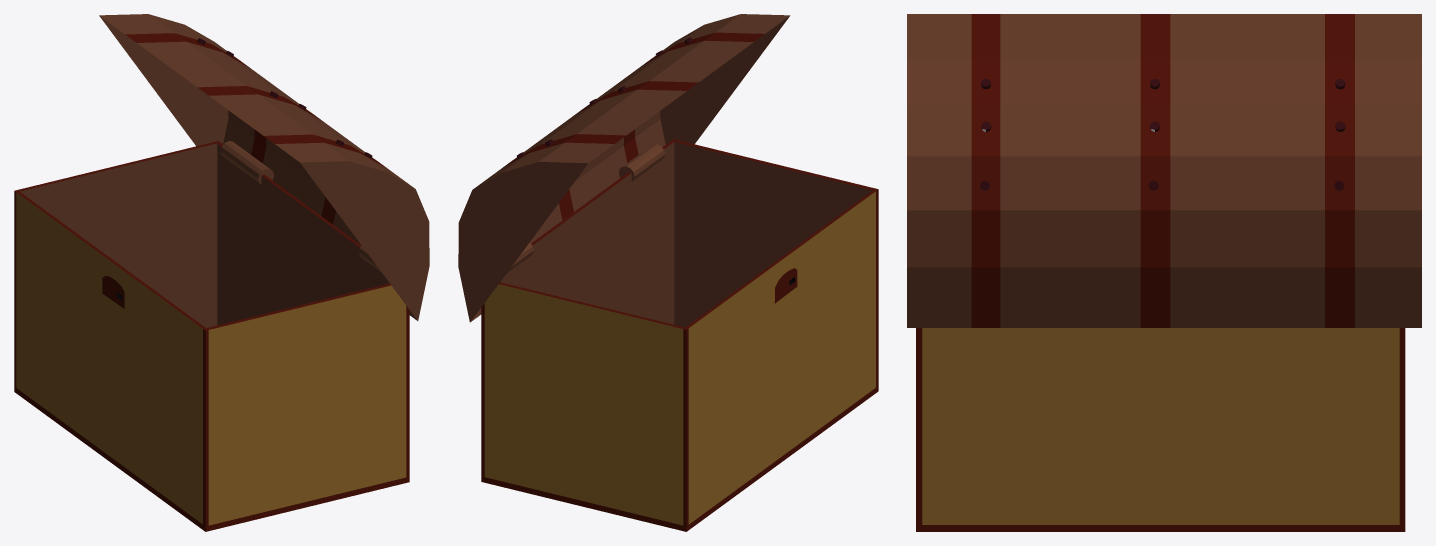
Rendered from acik_sandik.fbx.
3 views of the same model, side by side, from view 1: azimuth 30°, elevation 25°; view 2: azimuth 150°, elevation 25°; view 3: azimuth 270°, elevation 25° (orthographic). The views are drawn at different scales.
Visible parts, largest first — view 1: Cube; view 2: Cube; view 3: Cube.
Boxes of the visible parts, x1,y1,x2,y2 form: Cube: (14, 14, 429, 531); Cube: (458, 14, 878, 531); Cube: (907, 14, 1421, 531).
Size of the model in its own units: 230 by 348 by 362.
